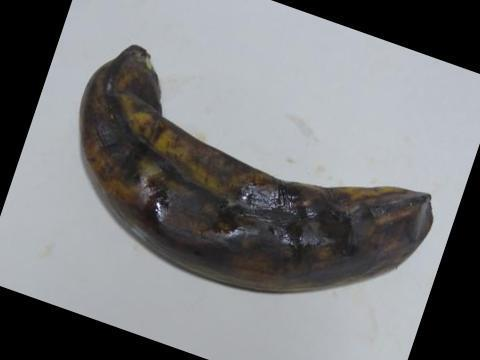rotten: (66, 12, 444, 306)
